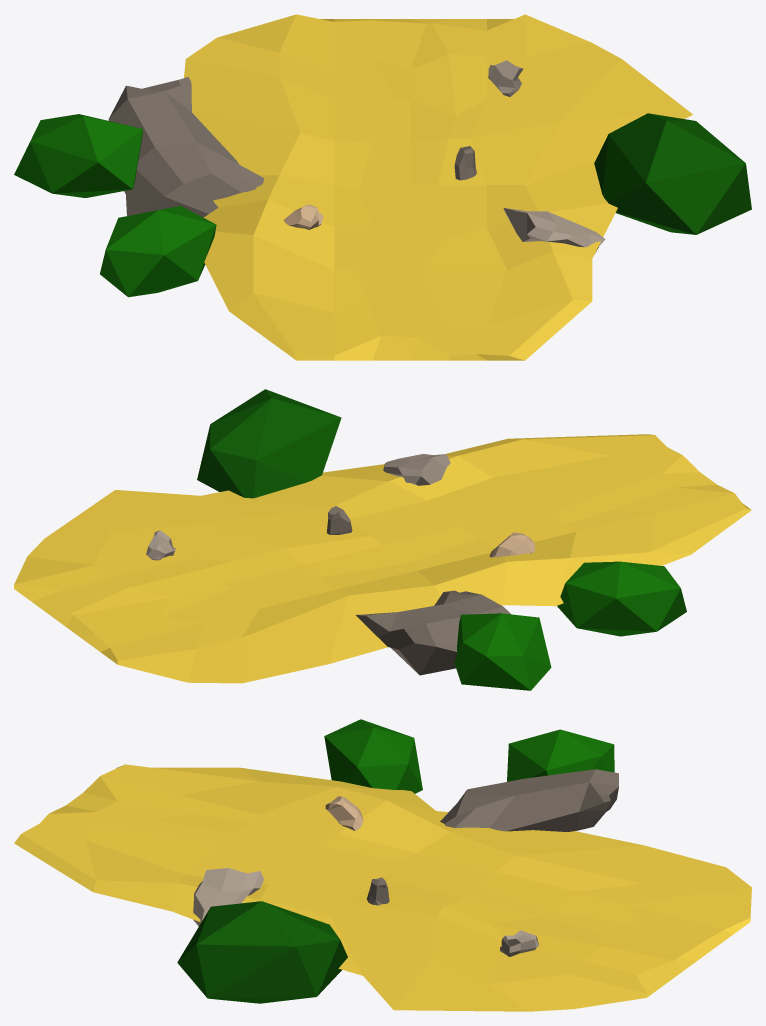
The model's file is street4_03_6.fbx.
3 renders of one model, top to bottom at view 1: azimuth 30°, elevation 25°; view 2: azimuth 150°, elevation 25°; view 3: azimuth 270°, elevation 25°, orthographic. The views are drawn at different scales.
Visible parts, largest first — view 1: sandWay03x02, bush, stones.012, bush.001, bush.002, stones.011, stones.010, stones.008, stones.009; view 2: sandWay03x02, bush, bush.002, bush.001, stones.012, stones.011, stones.008, stones.010, stones.009; view 3: sandWay03x02, bush, stones.012, bush.002, bush.001, stones.011, stones.008, stones.010, stones.009.
Part boxes in pixels (x1=…): sandWay03x02: x1=184, y1=14, x2=692, y2=360; bush: x1=594, y1=113, x2=751, y2=234; stones.012: x1=108, y1=77, x2=263, y2=217; bush.001: x1=14, y1=114, x2=142, y2=197; bush.002: x1=100, y1=206, x2=216, y2=297; stones.011: x1=503, y1=207, x2=605, y2=254; stones.010: x1=488, y1=60, x2=523, y2=96; stones.008: x1=284, y1=204, x2=323, y2=229; stones.009: x1=454, y1=146, x2=476, y2=180; sandWay03x02: x1=14, y1=434, x2=751, y2=683; bush: x1=197, y1=389, x2=341, y2=498; bush.002: x1=557, y1=561, x2=686, y2=636; bush.001: x1=454, y1=613, x2=551, y2=690; stones.012: x1=356, y1=590, x2=510, y2=675; stones.011: x1=383, y1=454, x2=450, y2=485; stones.008: x1=489, y1=532, x2=534, y2=557; stones.010: x1=146, y1=530, x2=175, y2=560; stones.009: x1=327, y1=506, x2=352, y2=534; sandWay03x02: x1=14, y1=764, x2=751, y2=1011; bush: x1=177, y1=901, x2=347, y2=1003; stones.012: x1=440, y1=769, x2=618, y2=831; bush.002: x1=324, y1=719, x2=422, y2=793; bush.001: x1=507, y1=729, x2=614, y2=781; stones.011: x1=193, y1=868, x2=263, y2=926; stones.008: x1=325, y1=796, x2=363, y2=830; stones.010: x1=500, y1=930, x2=539, y2=956; stones.009: x1=367, y1=877, x2=389, y2=905.
Bounding box in the file's own units: 85.81 × 15.06 × 99.51.
